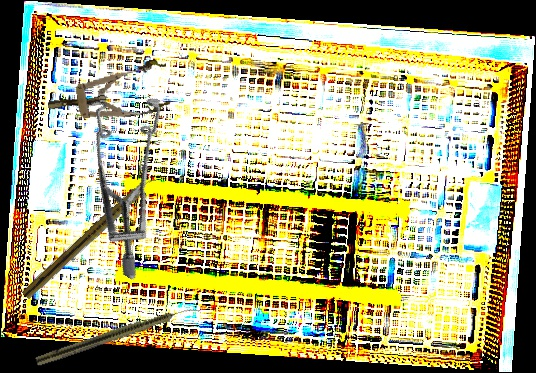Handpiece: (21, 172, 159, 303), (34, 300, 203, 369)
Speculum: (21, 69, 224, 282), (43, 57, 174, 131)
